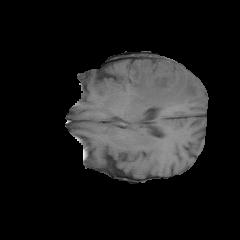glioma: (119, 59, 198, 109)
